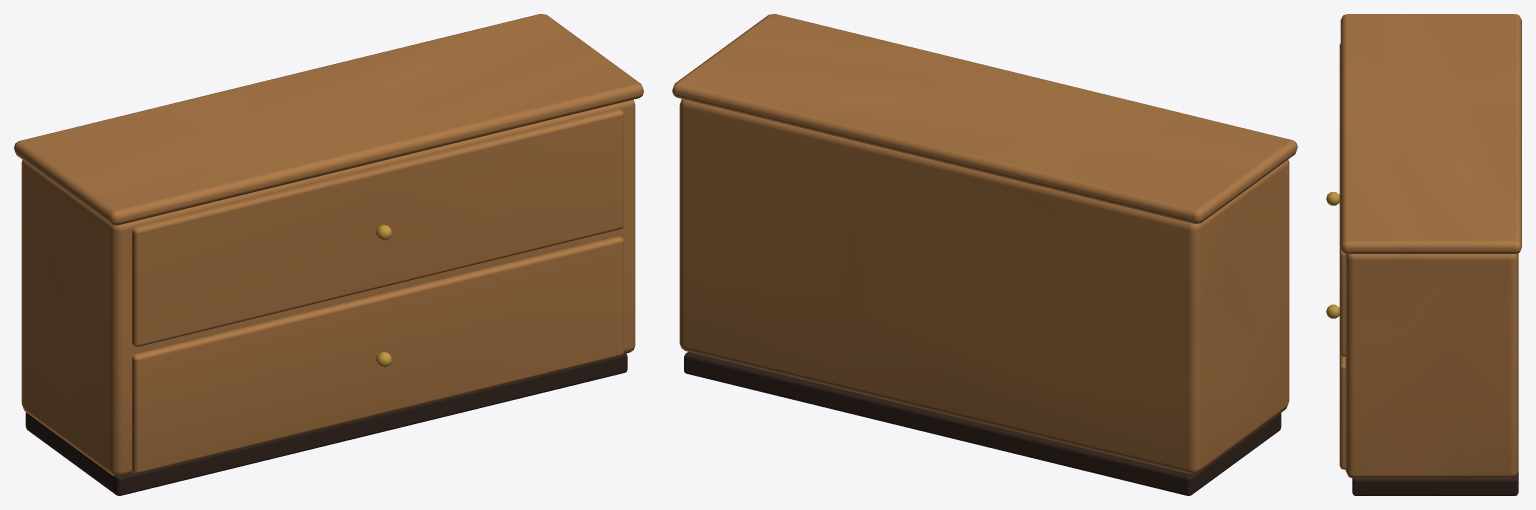
File: furn_dresser.glb
3 renders of one model, left to right at view 1: azimuth 30°, elevation 25°; view 2: azimuth 150°, elevation 25°; view 3: azimuth 270°, elevation 25°, orthographic. The views are drawn at different scales.
Parts seen in each view (by area): view 1: furn_dresser_main; view 2: furn_dresser_main; view 3: furn_dresser_main.
Part boxes in pixels (x1,y1,x2,y2): furn_dresser_main: [14, 14, 643, 495]; furn_dresser_main: [672, 14, 1297, 495]; furn_dresser_main: [1326, 14, 1521, 495].
Size of the model in its own units: 1.65 by 0.86 by 0.589.
